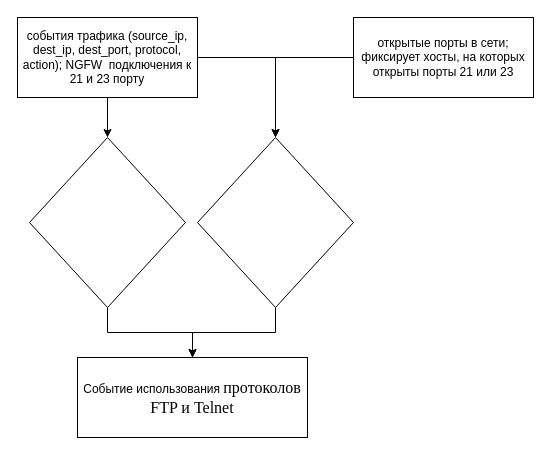
The diagram is 551 pixels wide and 455 high, and some of its shapes have lost their labels. Each missing label, with the centre of its shape:
Условие: события от NGFW и от Masscan: pixel 275 222
Условие: события от NGFW использование 21 или 23: pixel 107 222
